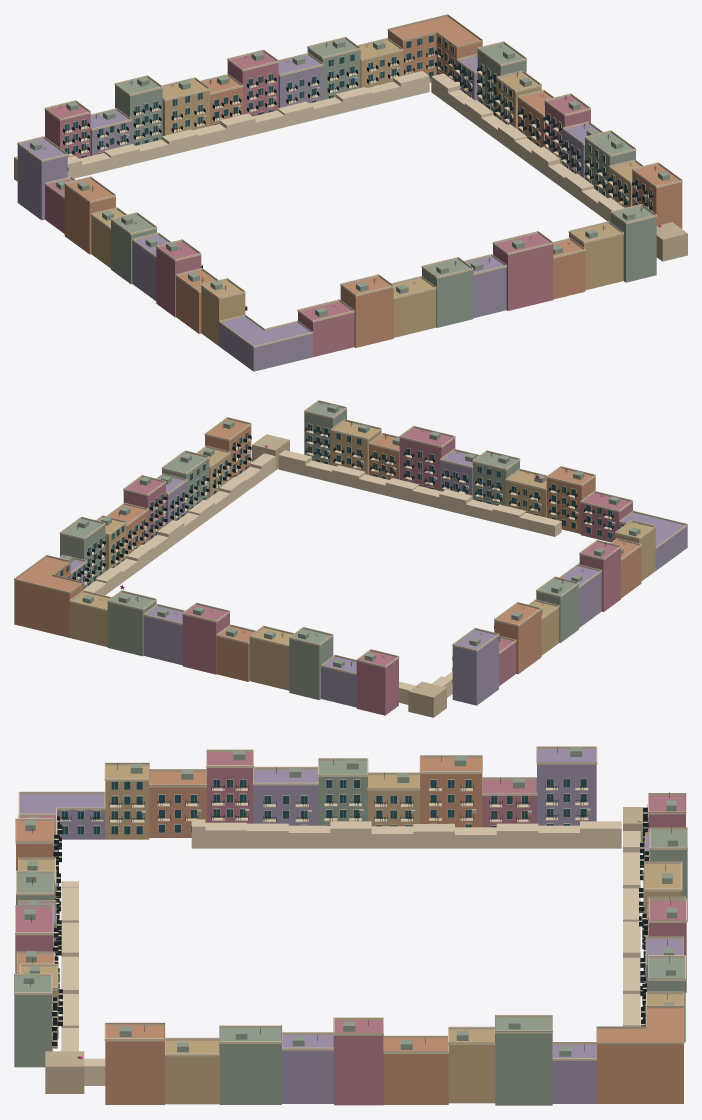
File: bola_fondo.glb
3 views of the same model, one above another, from view 1: azimuth 30°, elevation 25°; view 2: azimuth 150°, elevation 25°; view 3: azimuth 270°, elevation 25° (orthographic). The views are drawn at different scales.
Visible parts, largest first — view 1: BG-ED-O01, BG-ED-E05-AC, BG-ED-E01, BG-ED-N01, BG-ED-E01-B1_SLAB0, BG-ED-N01-B1_SLAB0, BG-ED-E05-B2_SLAB0, BG-ED-O01-B1_SLAB0; view 2: BG-ED-E01, BG-ED-N01, BG-ED-O01, BG-ED-E05-AC, BG-ED-E05-B2_SLAB0, BG-ED-O01-B1_SLAB0, BG-ED-E01-B1_SLAB0, BG-ED-N01-B1_SLAB0; view 3: BG-ED-E01, BG-ED-E05-AC, BG-ED-O01, BG-ED-N01, BG-ED-N01-B1_SLAB0, BG-ED-O01-B1_SLAB0, BG-ED-E05-B2_SLAB0, BG-ED-E01-B1_SLAB0.
Boxes of the visible parts, bbox=[...] form: BG-ED-O01: bbox=[111, 214, 483, 371]; BG-ED-E05-AC: bbox=[466, 100, 687, 318]; BG-ED-E01: bbox=[217, 14, 590, 164]; BG-ED-N01: bbox=[14, 76, 242, 268]; BG-ED-E01-B1_SLAB0: bbox=[219, 37, 590, 165]; BG-ED-N01-B1_SLAB0: bbox=[17, 74, 243, 229]; BG-ED-E05-B2_SLAB0: bbox=[464, 108, 682, 275]; BG-ED-O01-B1_SLAB0: bbox=[110, 212, 473, 347]; BG-ED-E01: bbox=[14, 477, 237, 674]; BG-ED-N01: bbox=[216, 584, 562, 717]; BG-ED-O01: bbox=[458, 452, 687, 642]; BG-ED-E05-AC: bbox=[140, 402, 477, 528]; BG-ED-E05-B2_SLAB0: bbox=[142, 400, 479, 548]; BG-ED-O01-B1_SLAB0: bbox=[458, 450, 687, 597]; BG-ED-E01-B1_SLAB0: bbox=[59, 475, 230, 634]; BG-ED-N01-B1_SLAB0: bbox=[216, 590, 560, 704]; BG-ED-E01: bbox=[334, 899, 686, 1105]; BG-ED-E05-AC: bbox=[14, 903, 355, 1104]; BG-ED-O01: bbox=[16, 750, 367, 930]; BG-ED-N01: bbox=[346, 747, 687, 943]; BG-ED-N01-B1_SLAB0: bbox=[349, 746, 687, 938]; BG-ED-O01-B1_SLAB0: bbox=[15, 749, 371, 945]; BG-ED-E05-B2_SLAB0: bbox=[14, 900, 334, 1085]; BG-ED-E01-B1_SLAB0: bbox=[334, 898, 686, 1060].
Size of the model in its own units: 130 by 17.3 by 130.
2 materials, 1 textured.
